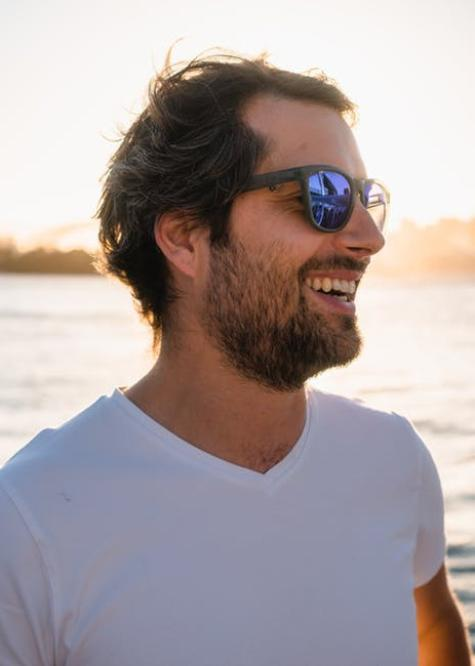face: (222, 93, 384, 375)
